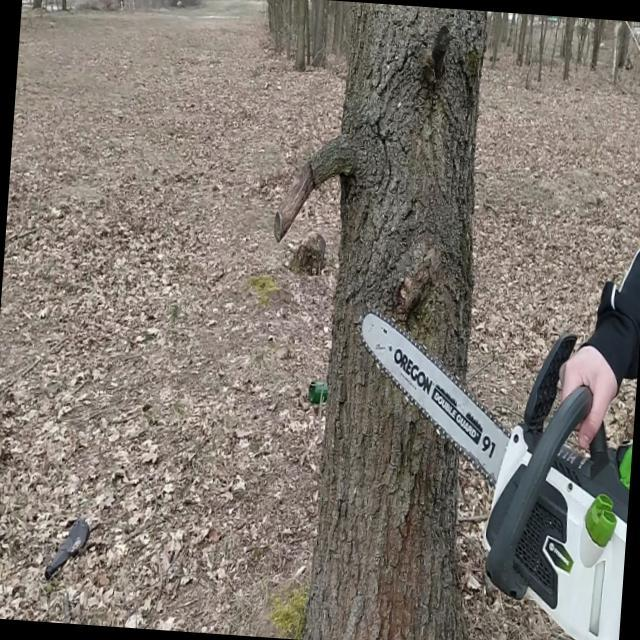Chainsaw: (332, 298, 640, 640)
